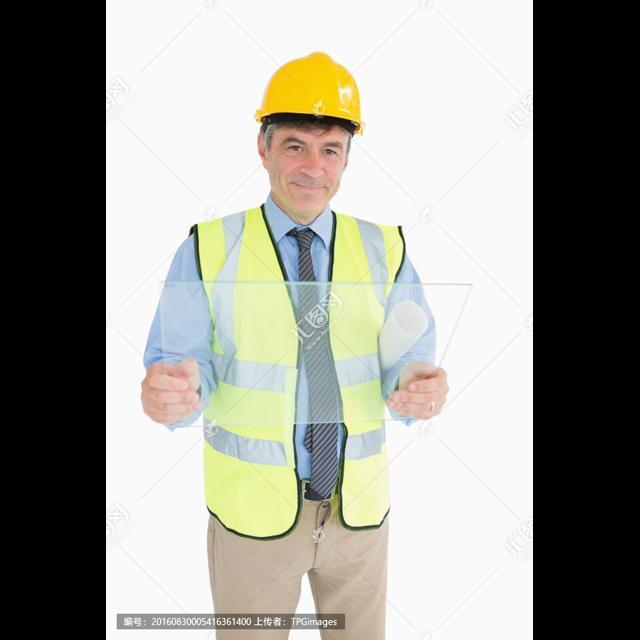helmet: (247, 44, 366, 142)
safety_vest: (200, 208, 406, 538)
